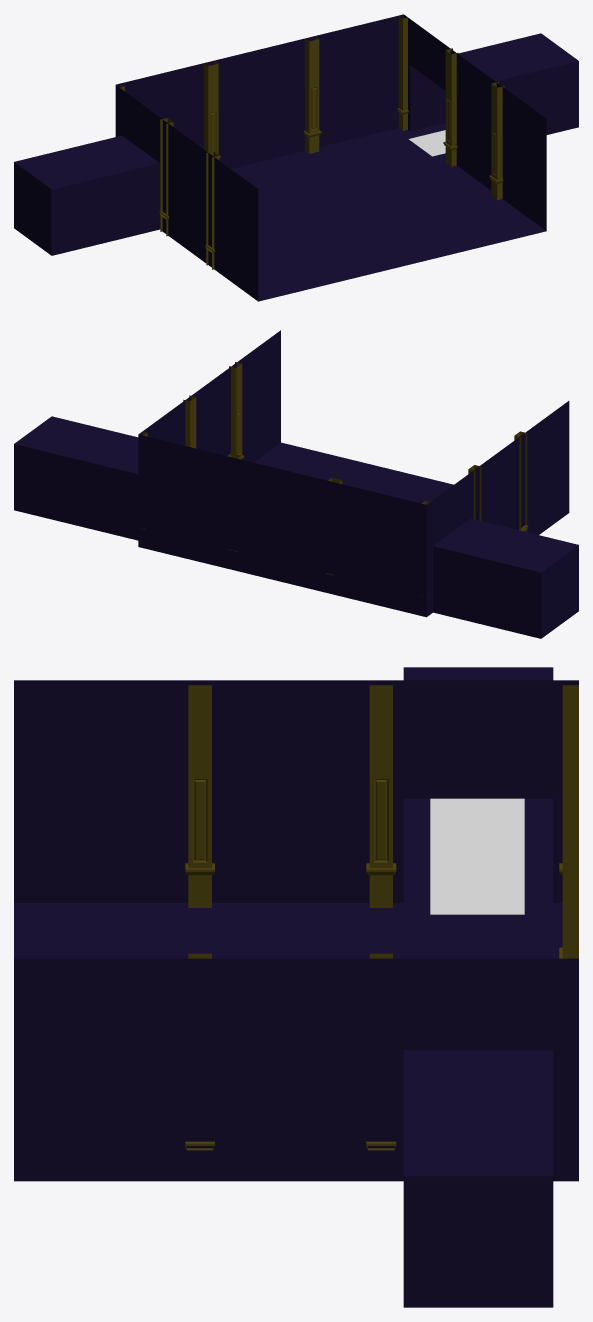
Rendered from layout_mesh.fbx.
The picture shows the model from 3 angles, top to bottom: view 1: azimuth 30°, elevation 25°; view 2: azimuth 150°, elevation 25°; view 3: azimuth 270°, elevation 25°; orthographic projection. The views are drawn at different scales.
Parts seen in each view (by area): view 1: layout_mesh; view 2: layout_mesh; view 3: layout_mesh.
Part boxes in pixels (x1,y1,x2,y2): layout_mesh: (14,14,578,301); layout_mesh: (14,330,578,638); layout_mesh: (14,667,578,1307).
Size of the model in its own units: 25.94 by 5.29 by 12.17.
